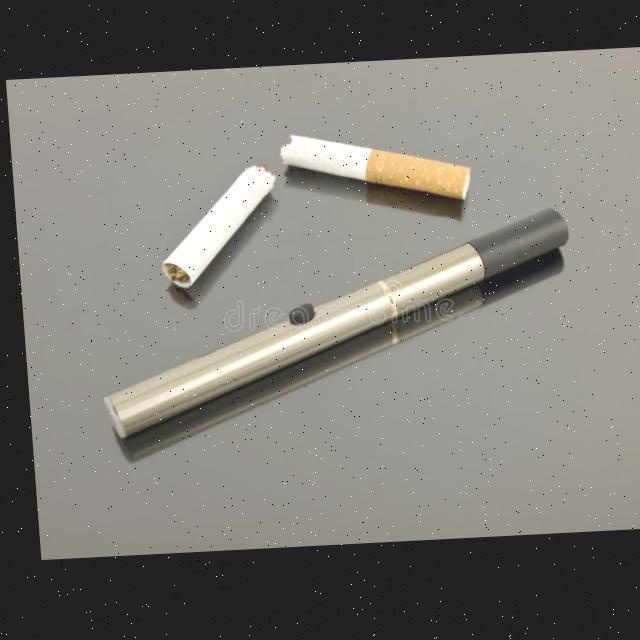cigarette: (275, 128, 473, 213), (151, 165, 280, 293)
vape: (85, 213, 577, 442)
